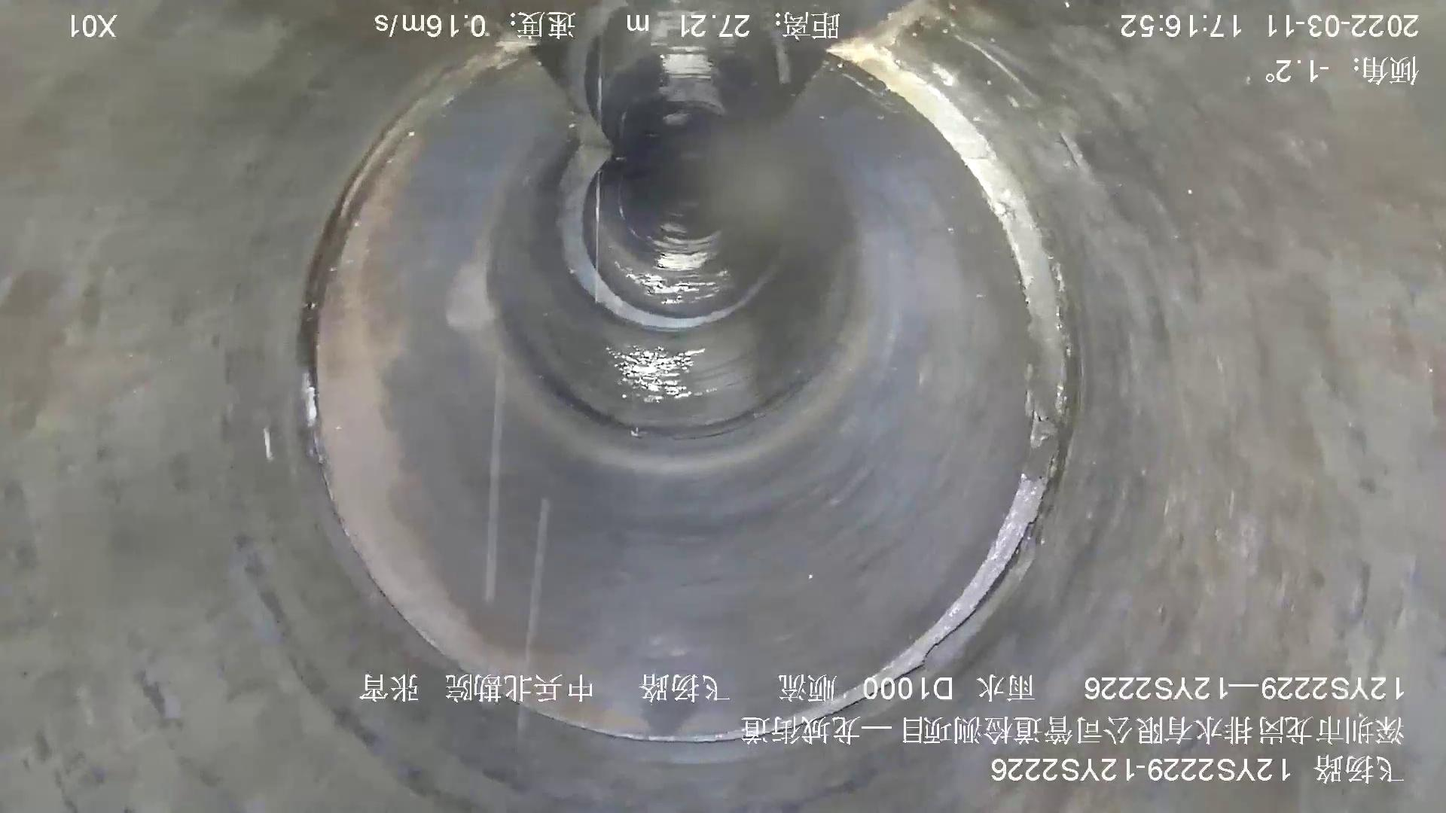CKTJ: (770, 1, 1070, 725), (301, 33, 533, 467), (557, 142, 760, 331), (604, 725, 769, 742)
